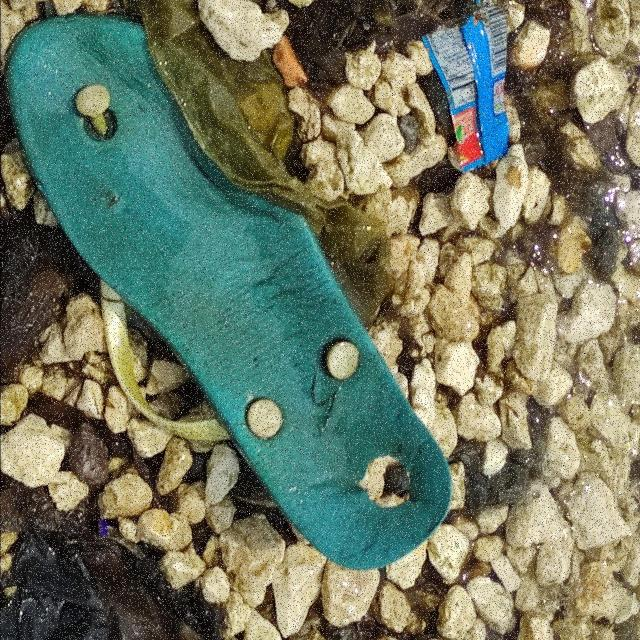plastic_waste: (421, 6, 510, 176)
rubber_waste: (7, 16, 454, 573)
